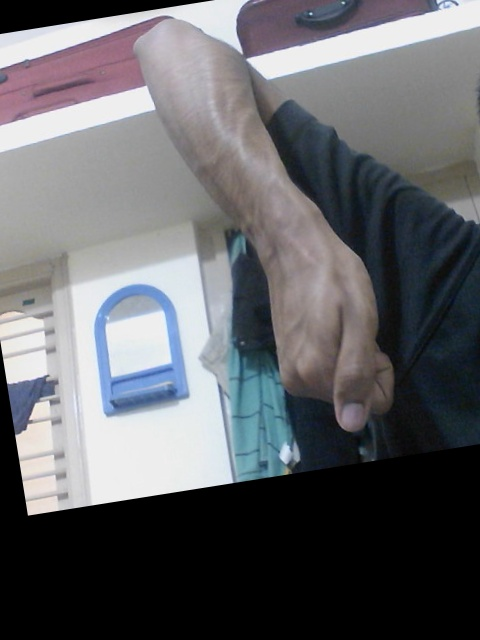hand: (267, 231, 399, 436)
